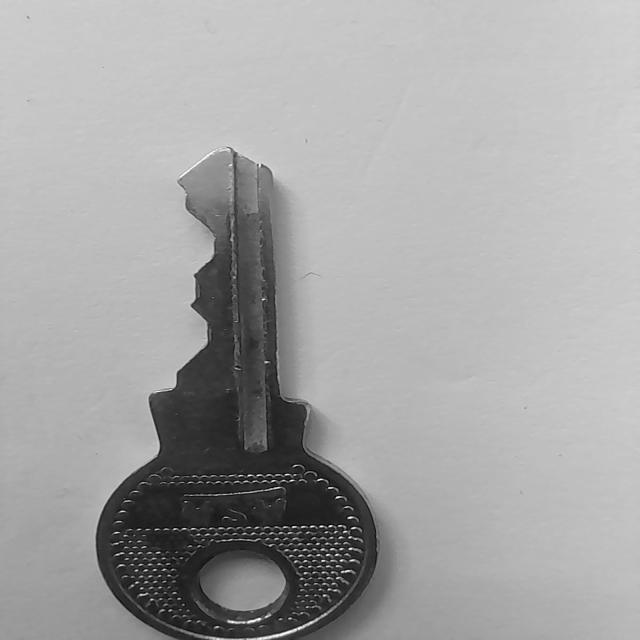KEY: (95, 148, 377, 640)
